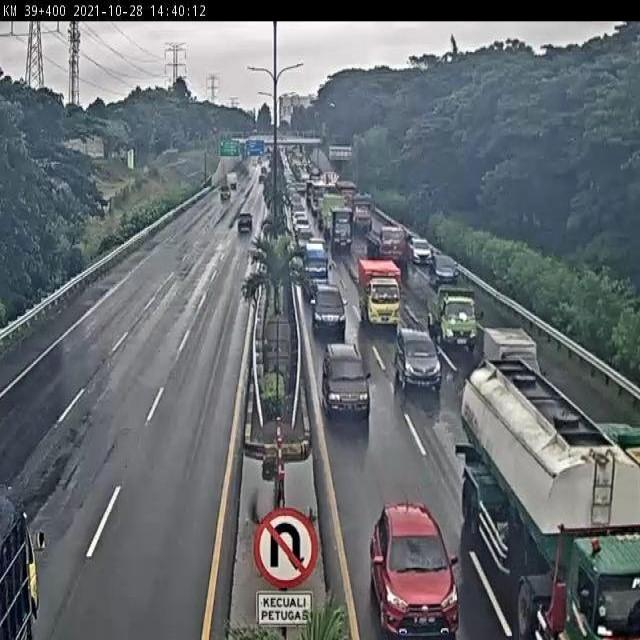car: (365, 487, 471, 637), (316, 331, 381, 431), (392, 324, 445, 416), (310, 282, 353, 341), (406, 234, 441, 271), (230, 199, 258, 244)
small truck: (427, 262, 485, 367), (358, 253, 408, 332)
truck-m-: (452, 349, 640, 640)
